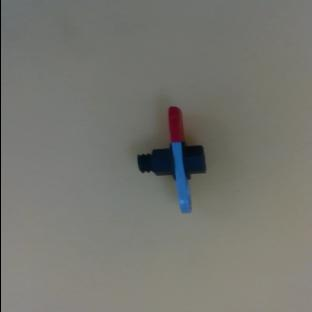part_1_good: (123, 104, 236, 217)
